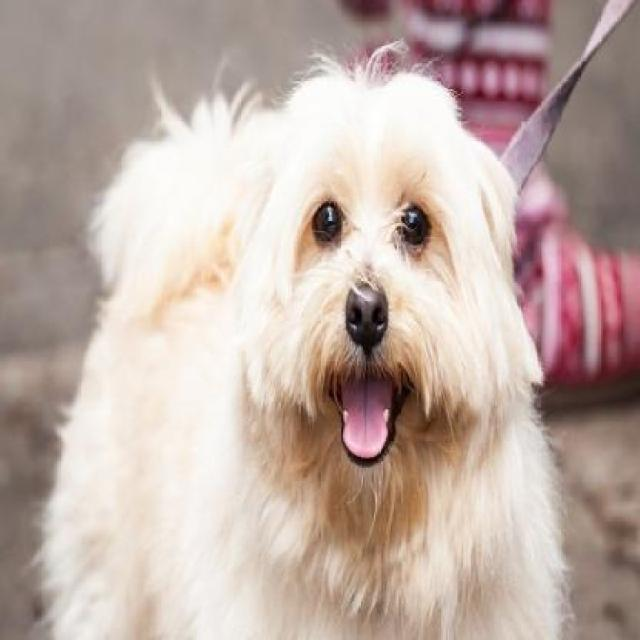Dog: (42, 43, 576, 639)
